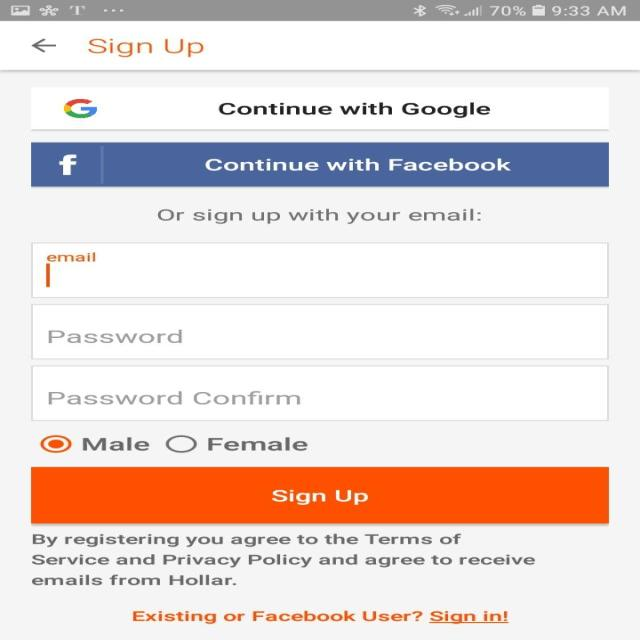EditText: (31, 242, 609, 298), (31, 365, 609, 421), (31, 304, 608, 360)
Icon: (31, 38, 57, 53)
Text: (31, 533, 535, 586), (132, 610, 508, 624), (157, 208, 480, 222), (48, 390, 302, 404), (88, 38, 204, 58), (48, 329, 182, 344), (207, 436, 308, 451), (82, 436, 150, 450), (46, 252, 96, 261)
TextButton: (31, 466, 609, 524), (31, 142, 609, 186), (31, 87, 609, 130)
